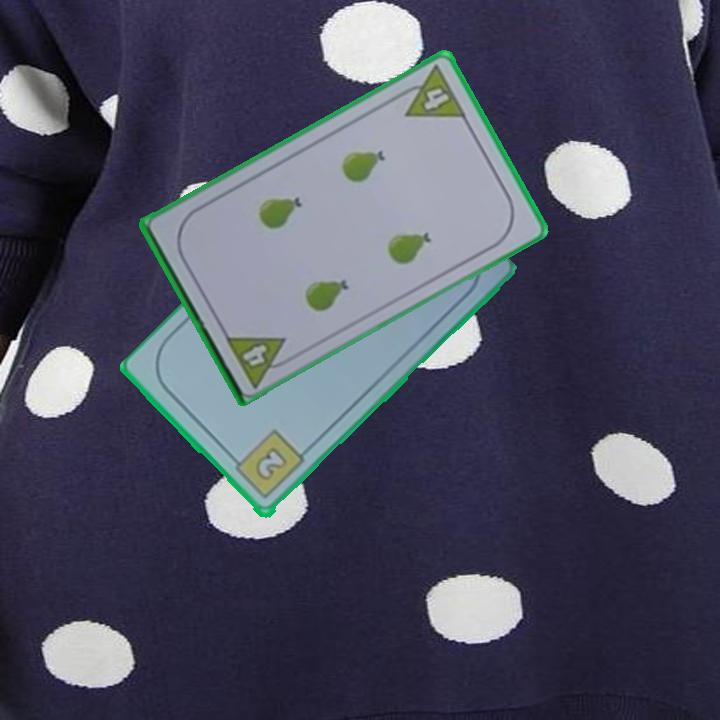2b: (226, 426, 307, 503)
4p: (391, 61, 469, 121), (221, 330, 297, 389)
